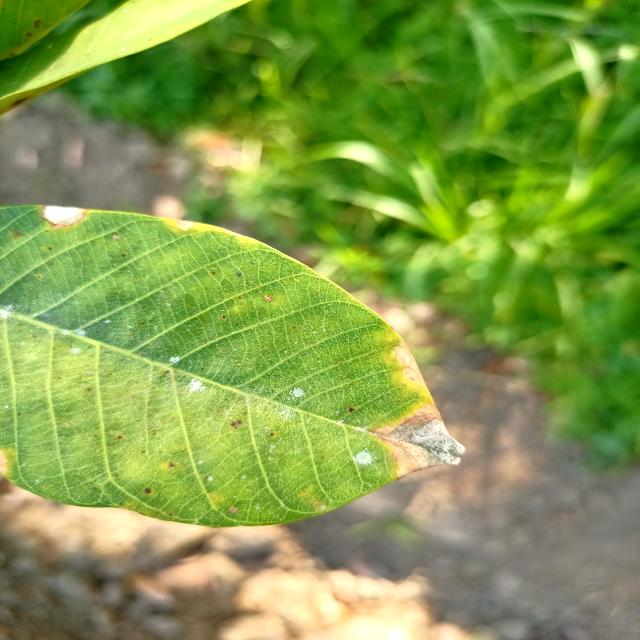Colletotrichum: (145, 488, 151, 493), (349, 407, 354, 412), (223, 315, 226, 320), (270, 433, 274, 436), (122, 254, 125, 257), (236, 323, 238, 325), (239, 296, 241, 298)
Leaf-Blight: (372, 405, 465, 477), (393, 342, 425, 385), (41, 206, 86, 225), (178, 220, 195, 231)
